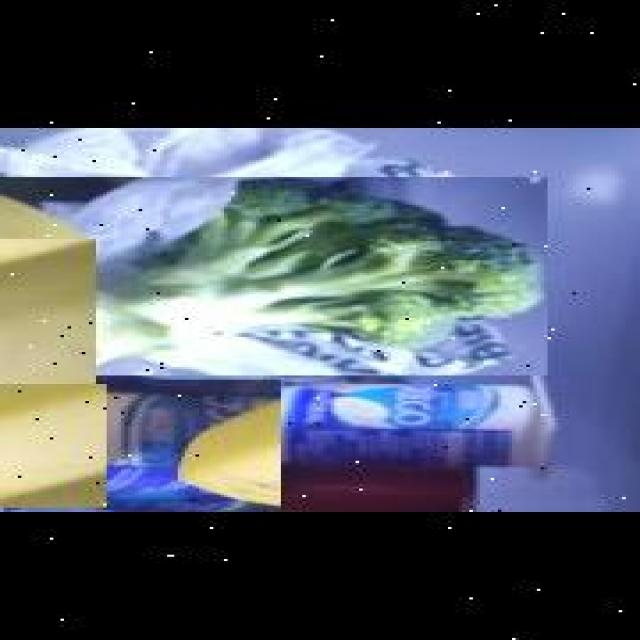banana: (0, 239, 153, 420), (0, 382, 156, 508), (0, 128, 82, 241)
broccoli: (0, 177, 544, 376)
yogurt: (0, 380, 274, 512), (263, 368, 555, 479)
